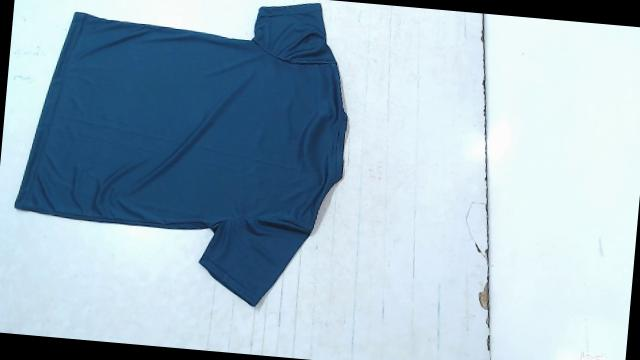new-garment: (15, 4, 347, 306)
